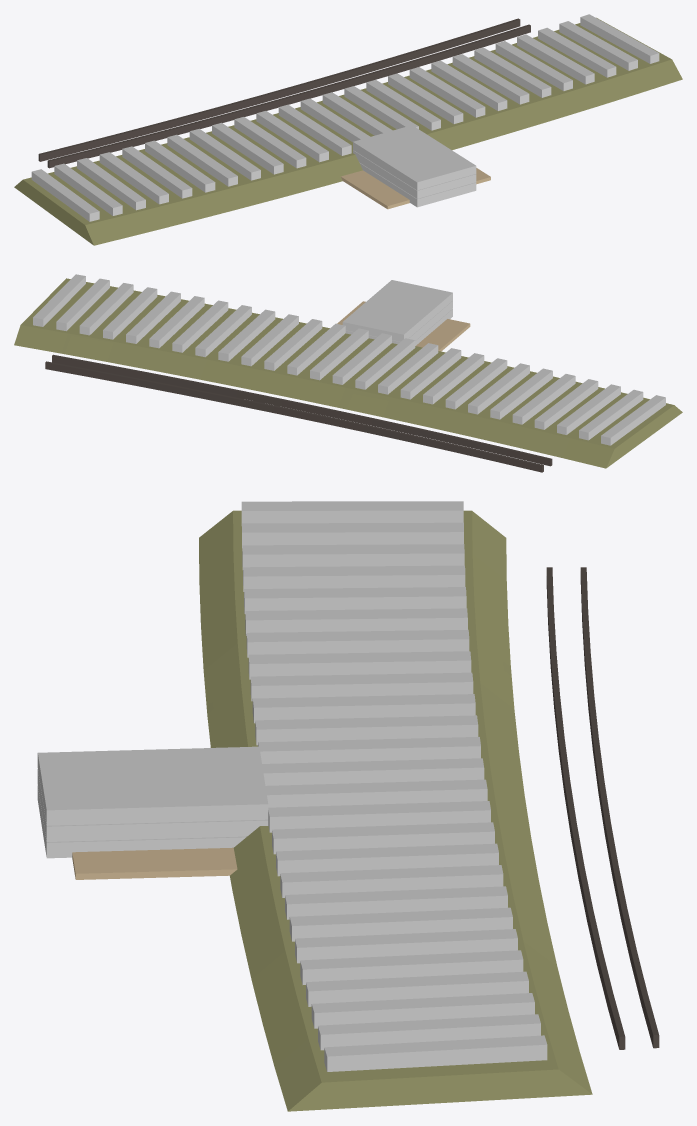
File: SM_Via_CurvaR120_v3_Obra_LOD0.fbx
3 views of the same model, one above another, from view 1: azimuth 30°, elevation 25°; view 2: azimuth 150°, elevation 25°; view 3: azimuth 270°, elevation 25° (orthographic). The views are drawn at different scales.
Parts seen in each view (by area): view 1: SM_via_trazado_v18_LOD0; view 2: SM_via_trazado_v18_LOD0; view 3: SM_via_trazado_v18_LOD0.
Part boxes in pixels (x1,y1,x2,y2): SM_via_trazado_v18_LOD0: (14,14,682,245); SM_via_trazado_v18_LOD0: (14,274,682,472); SM_via_trazado_v18_LOD0: (37,501,659,1111).
Size of the model in its own units: 15.9 by 0.63 by 7.28.
